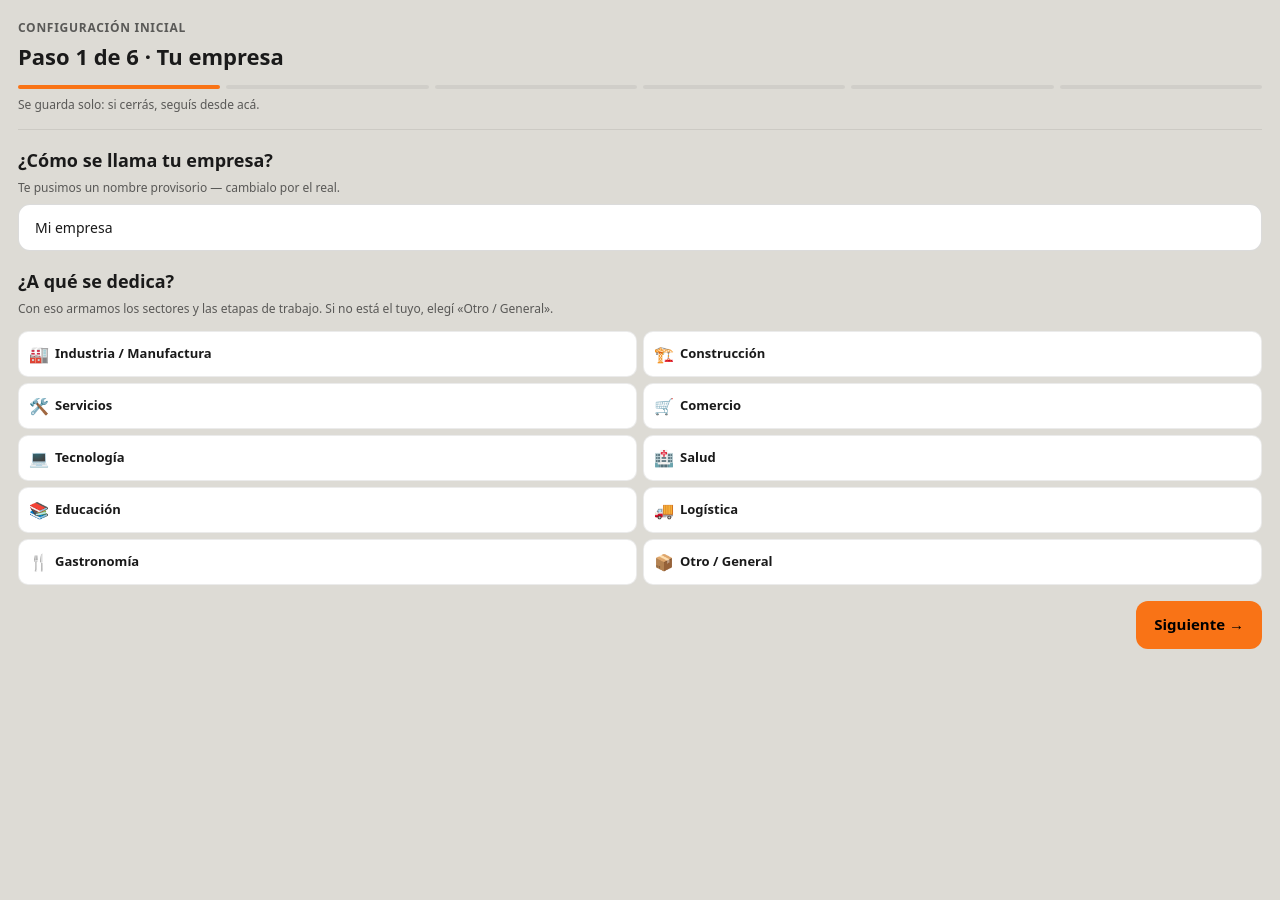
Paso 1 — elegir el rubro muestra sectores y etapas para leer, sin clave, código, emoji ni color
The image size is (1280, 900).
Expected: the heading "Paso 1 de 6 · Tu empresa" is shown, [18,41,284,71]
Click the text "Industria / Manufactura".
click(133, 354)  # box [55,344,212,363]
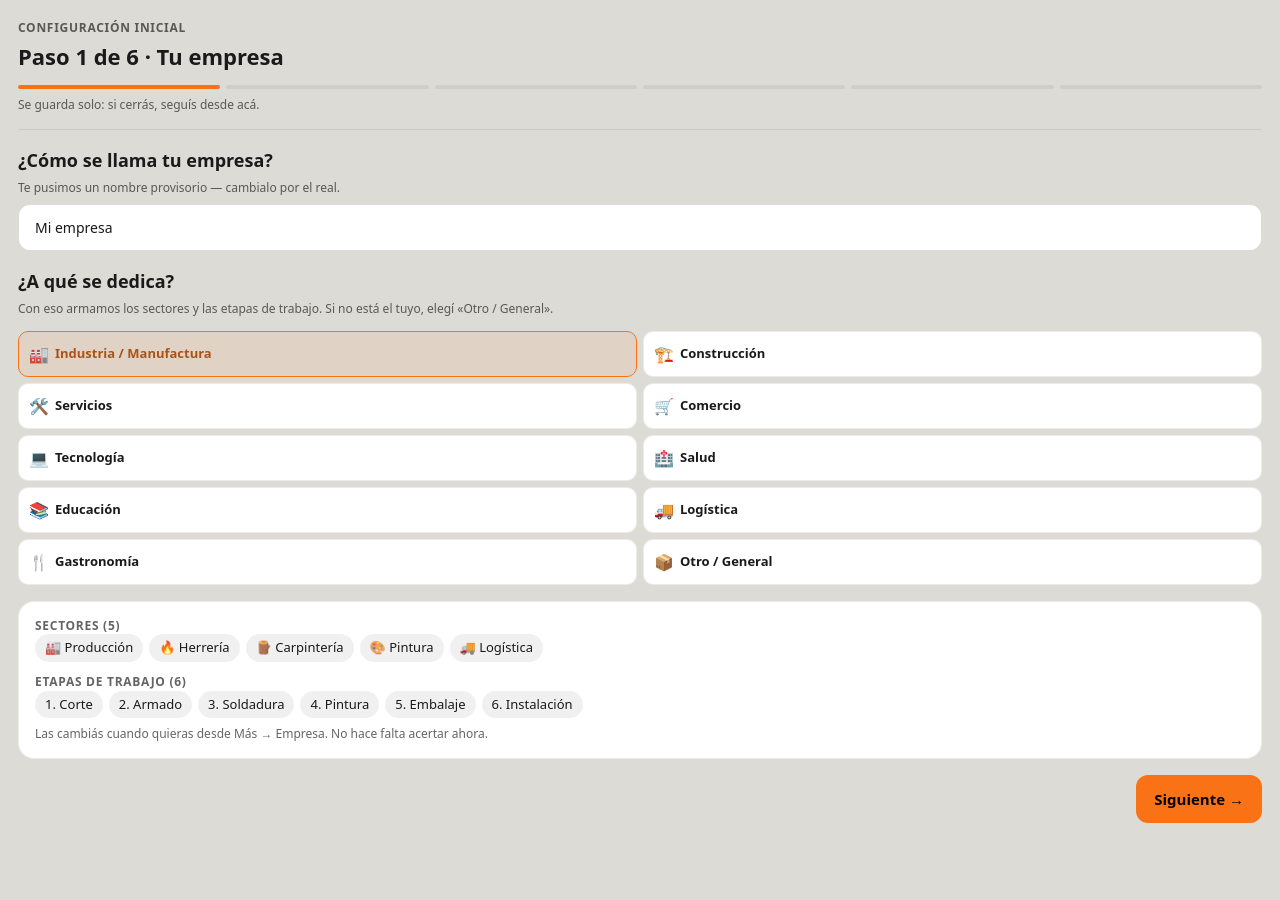
Expected: the text "Sectores (5)" is shown, [35,617,120,634]
Expected: the list item "🔥 Herrería" is shown, [149,634,240,662]
Expected: the list item "3. Soldadura" is shown, [198,691,294,718]
